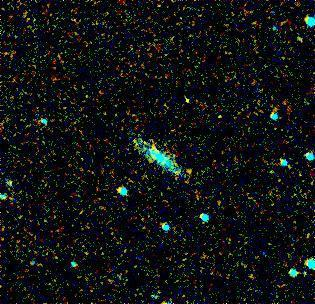star: (175, 156, 205, 186)
